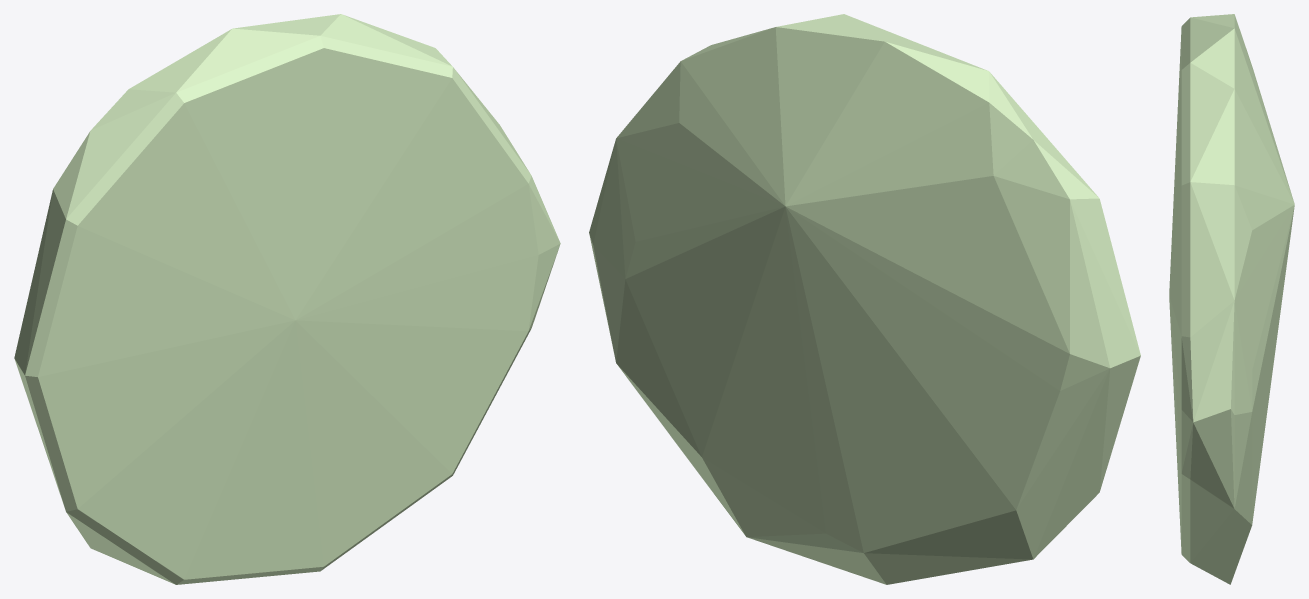
File: iiwa_link8_resp_coll_2.obj
3 views of the same model, side by side, from view 1: azimuth 30°, elevation 25°; view 2: azimuth 150°, elevation 25°; view 3: azimuth 270°, elevation 25° (orthographic). The views are drawn at different scales.
Parts seen in each view (by area): view 1: node; view 2: node; view 3: node.
Part boxes in pixels (bbox=[...]): node: bbox=[14, 14, 560, 584]; node: bbox=[589, 14, 1140, 584]; node: bbox=[1169, 14, 1294, 584].
Bounding box in the file's own units: 0.0654 × 0.0632 × 0.0142.
